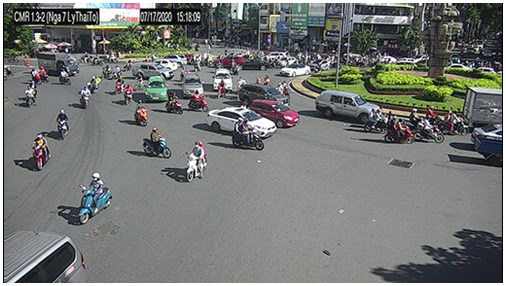xe_hoi: (205, 107, 277, 139), (314, 90, 381, 122), (249, 98, 300, 128), (238, 84, 290, 107), (132, 62, 175, 80), (211, 55, 247, 69), (279, 63, 311, 76), (159, 55, 187, 66), (239, 60, 269, 70), (155, 59, 178, 71), (265, 50, 291, 60), (275, 56, 298, 65)
xe_may: (78, 172, 113, 223), (232, 117, 264, 150), (142, 126, 171, 160), (413, 115, 445, 145), (185, 141, 208, 181), (439, 108, 468, 137), (386, 115, 414, 145), (31, 133, 51, 170), (399, 108, 428, 131), (364, 109, 390, 133), (55, 109, 70, 142), (188, 91, 209, 112), (165, 90, 183, 114), (425, 106, 444, 128), (135, 100, 147, 128), (88, 73, 103, 94), (123, 84, 135, 106), (79, 85, 89, 109), (25, 86, 35, 108), (217, 80, 228, 100), (38, 64, 49, 83), (58, 69, 71, 85), (29, 81, 38, 102), (30, 68, 42, 83), (101, 64, 112, 80), (230, 58, 240, 75), (79, 51, 91, 63), (282, 80, 290, 98), (112, 64, 122, 78), (275, 81, 284, 95), (192, 57, 200, 72)
xe_tai: (34, 53, 79, 75)
